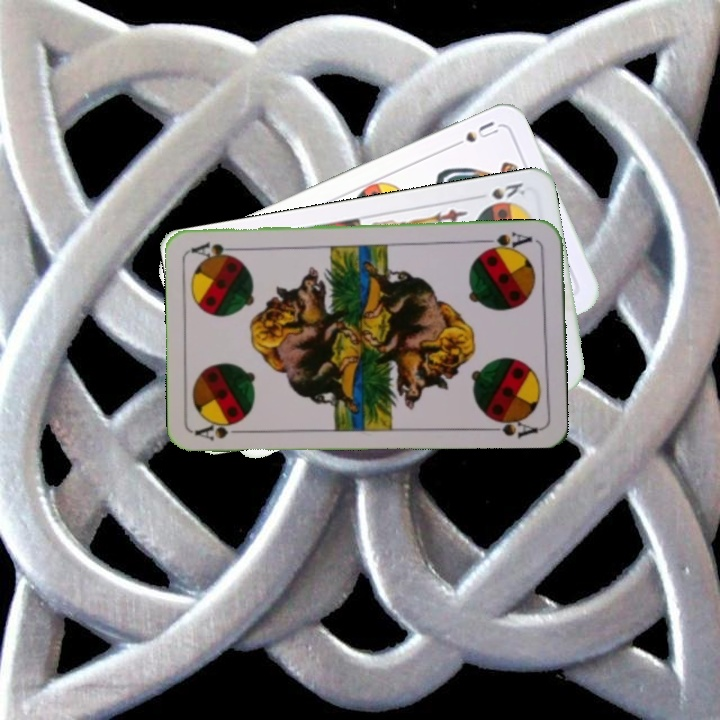SA: (192, 416, 251, 443), (480, 228, 535, 254)
SK: (487, 178, 528, 202)
SU: (445, 117, 501, 152)
